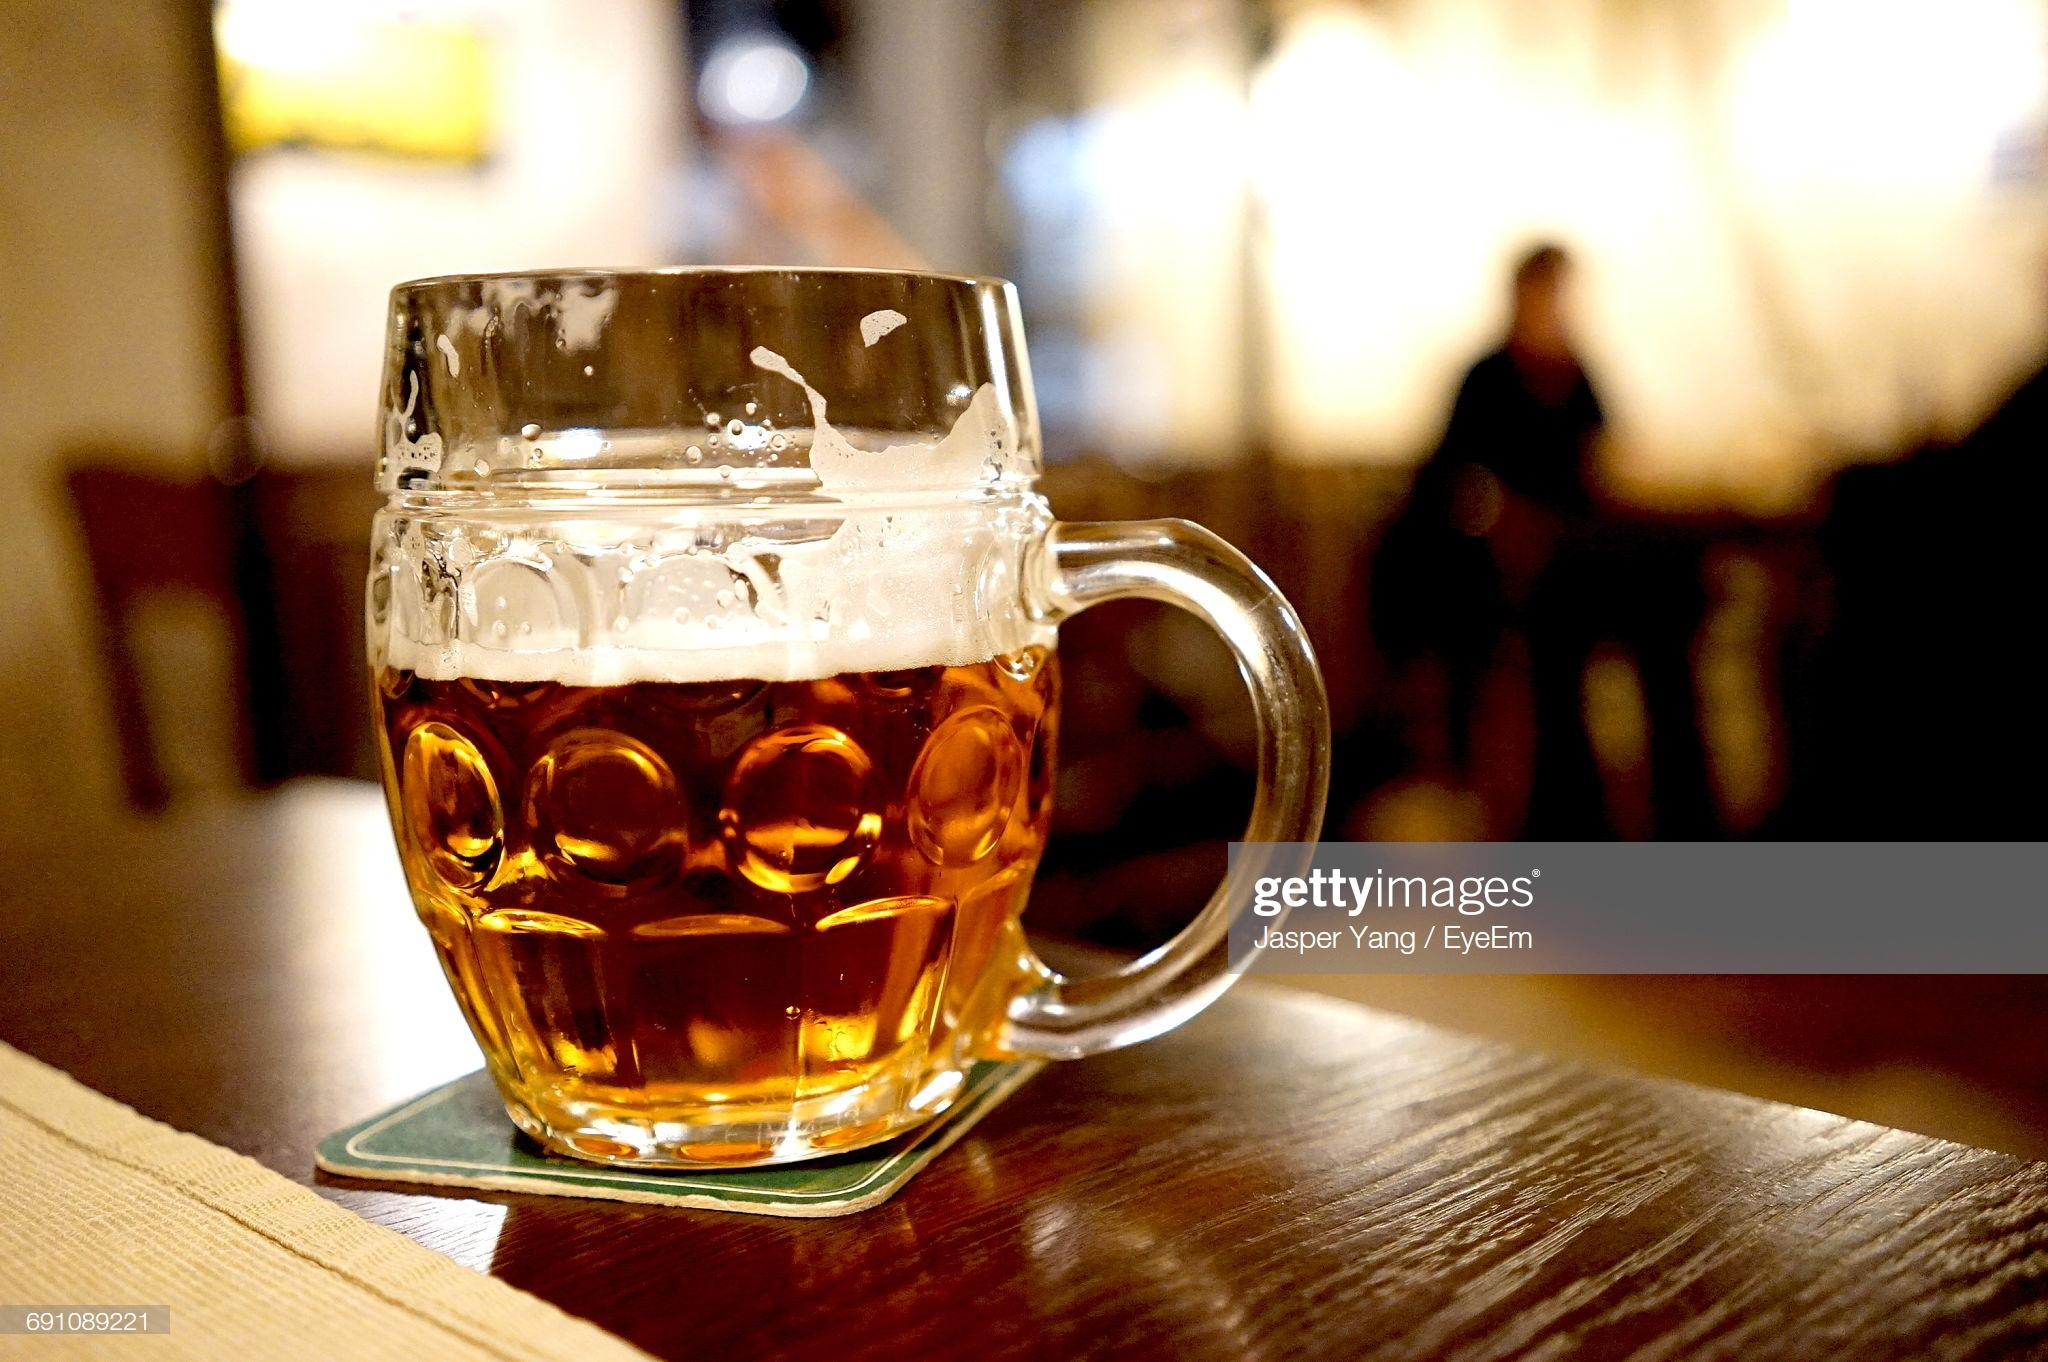glassBeer: (418, 260, 1033, 1145)
